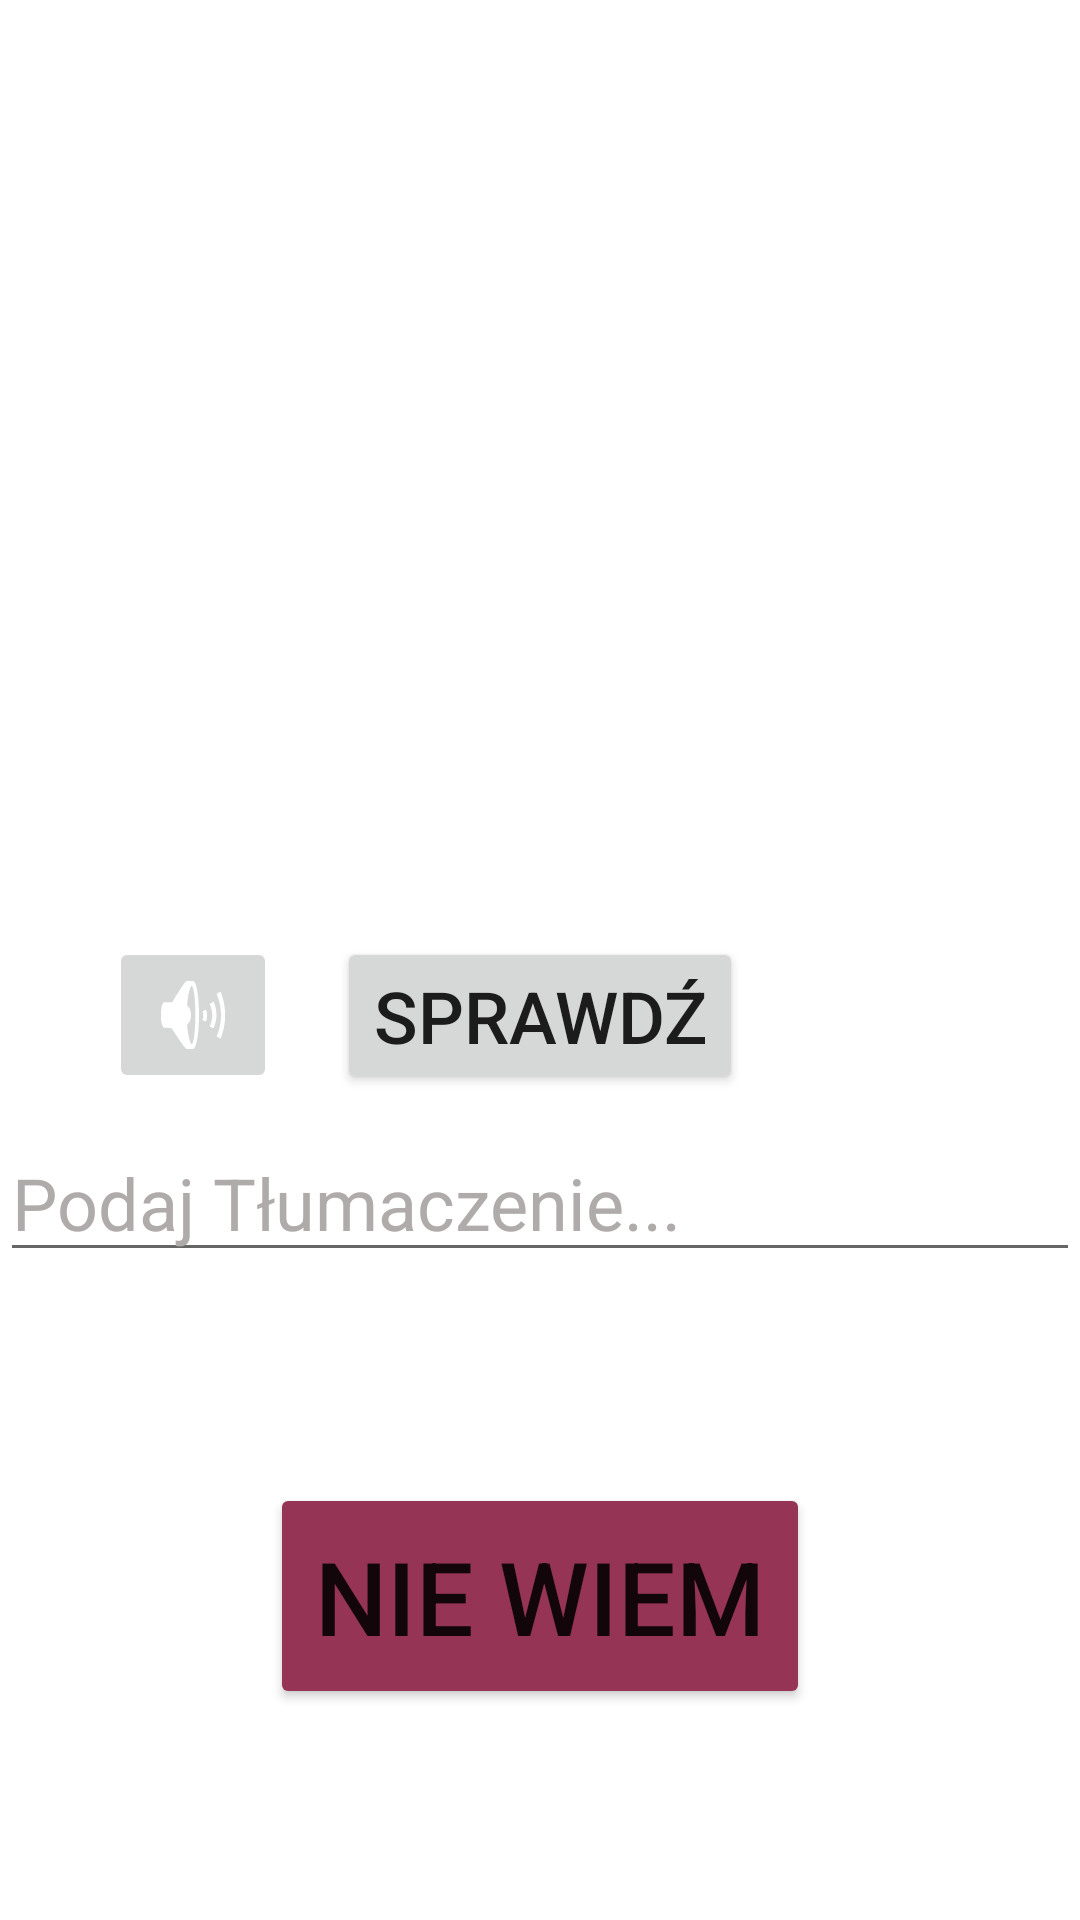

Locate icon controls on the screen. Image size 1080 x 1920, boxes as (x1, y1, x2, y2).
Dźwięk: (121, 955, 265, 1075)
